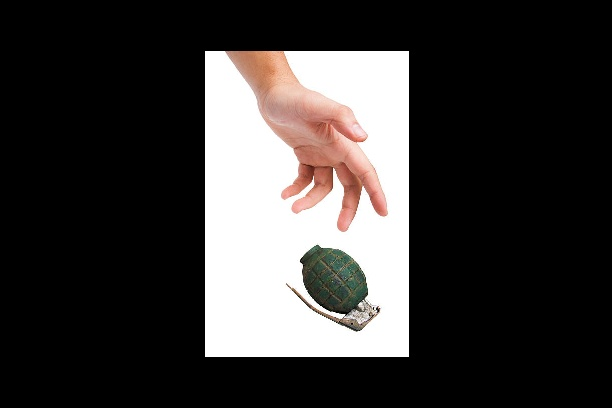e1: (284, 244, 382, 330)
